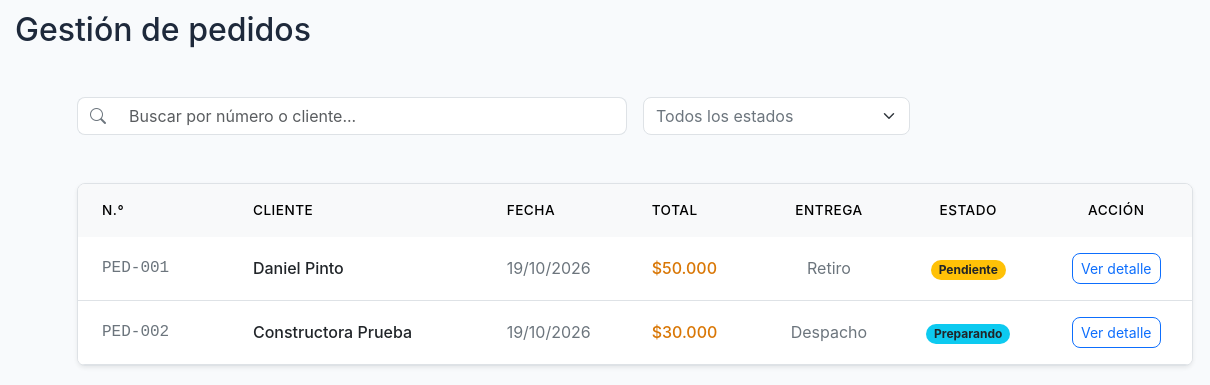
Test case: Pruebas del módulo Administrador e Inventario › debe mostrar y filtrar los pedidos del sistema
This screenshot has width=1210, height=385.
Expected: the text "PED-001" is shown, [78,237,245,300]
Expected: the text "PED-002" is shown, [78,300,245,364]
Step 1. Type "Constructora Prueba" into the field with placeholder "Buscar por número o cliente..." → (372, 116), box [117,97,627,135]
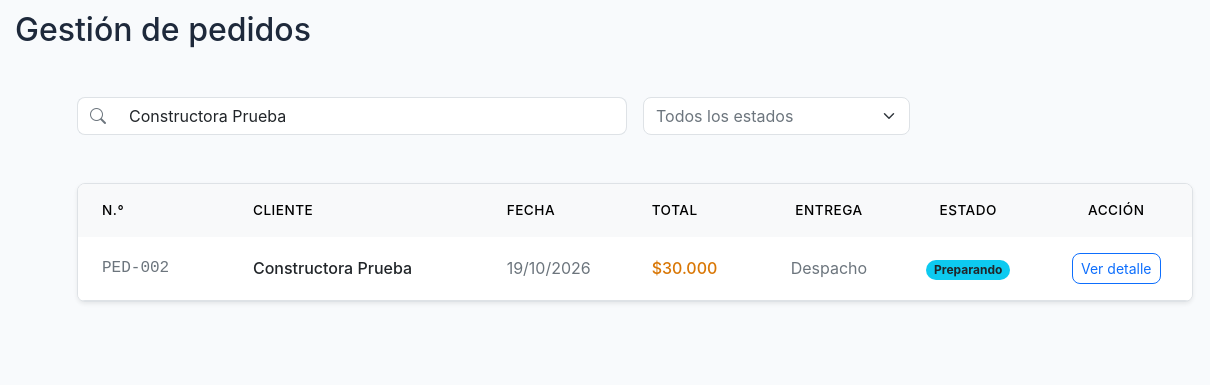
Expected: the text "Constructora Prueba" is shown, [245,237,499,300]
Now the text "Daniel Pinto" is gone
